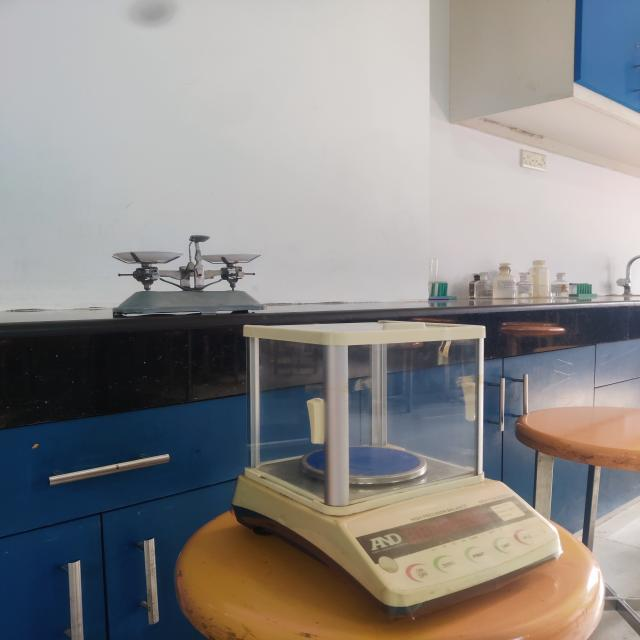Mechanical_Balance_Scale: (86, 210, 302, 339)
Precision_Weight_Scale: (210, 306, 582, 633)
